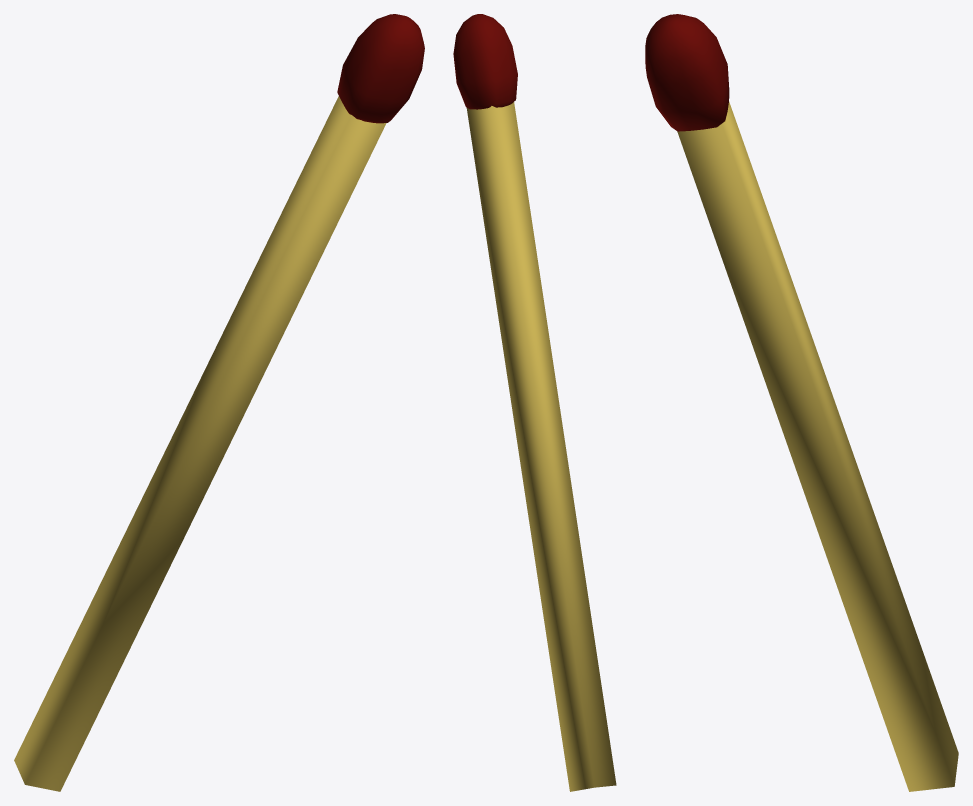
3 views of the same model, side by side, from view 1: azimuth 30°, elevation 25°; view 2: azimuth 150°, elevation 25°; view 3: azimuth 270°, elevation 25° (orthographic). The views are drawn at different scales.
Visible parts, largest first — view 1: Sphere.005; view 2: Sphere.005; view 3: Sphere.005.
Boxes of the visible parts, <box> form: Sphere.005: <box>14,14,424,791</box>; Sphere.005: <box>453,14,616,791</box>; Sphere.005: <box>645,14,958,791</box>.
Bounding box in the file's own units: 0.4579 × 1.19 × 0.3734.
